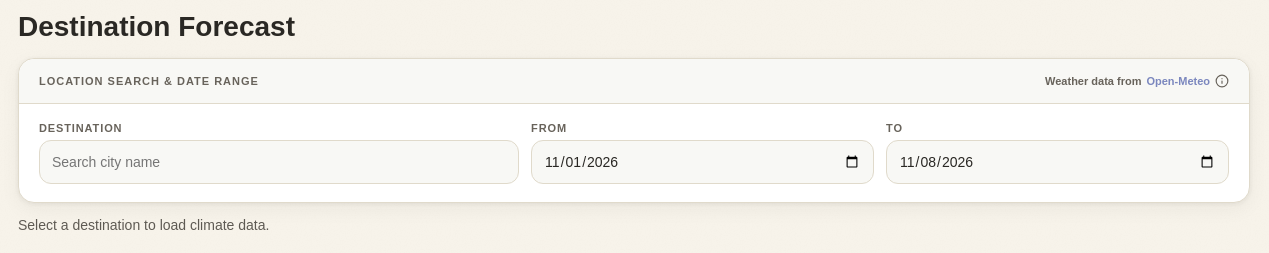
Test: ForecastTool › FE-FOR-002 typing in search shows suggestion list from geocode results
This screenshot has width=1269, height=253.
Type "Bar" into the dropdown named "Search destination" at (279, 162), box [39, 140, 519, 184]
Wait 500 ms
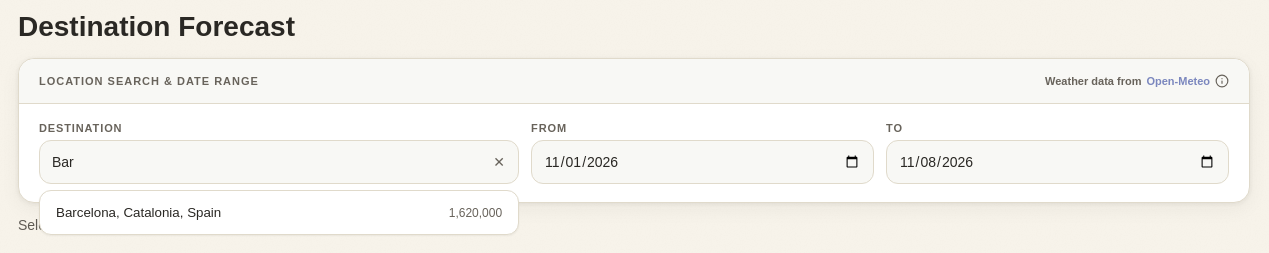
Result: the list is shown at [39, 190, 519, 235]
Result: the text "Barcelona, Catalonia, Spain" is shown at [56, 205, 221, 220]
